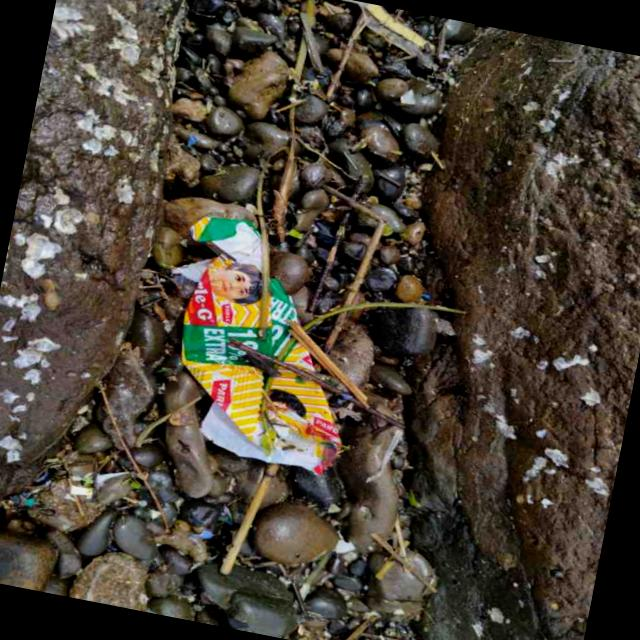bao_bi_thuc_pham: (181, 219, 341, 475)
